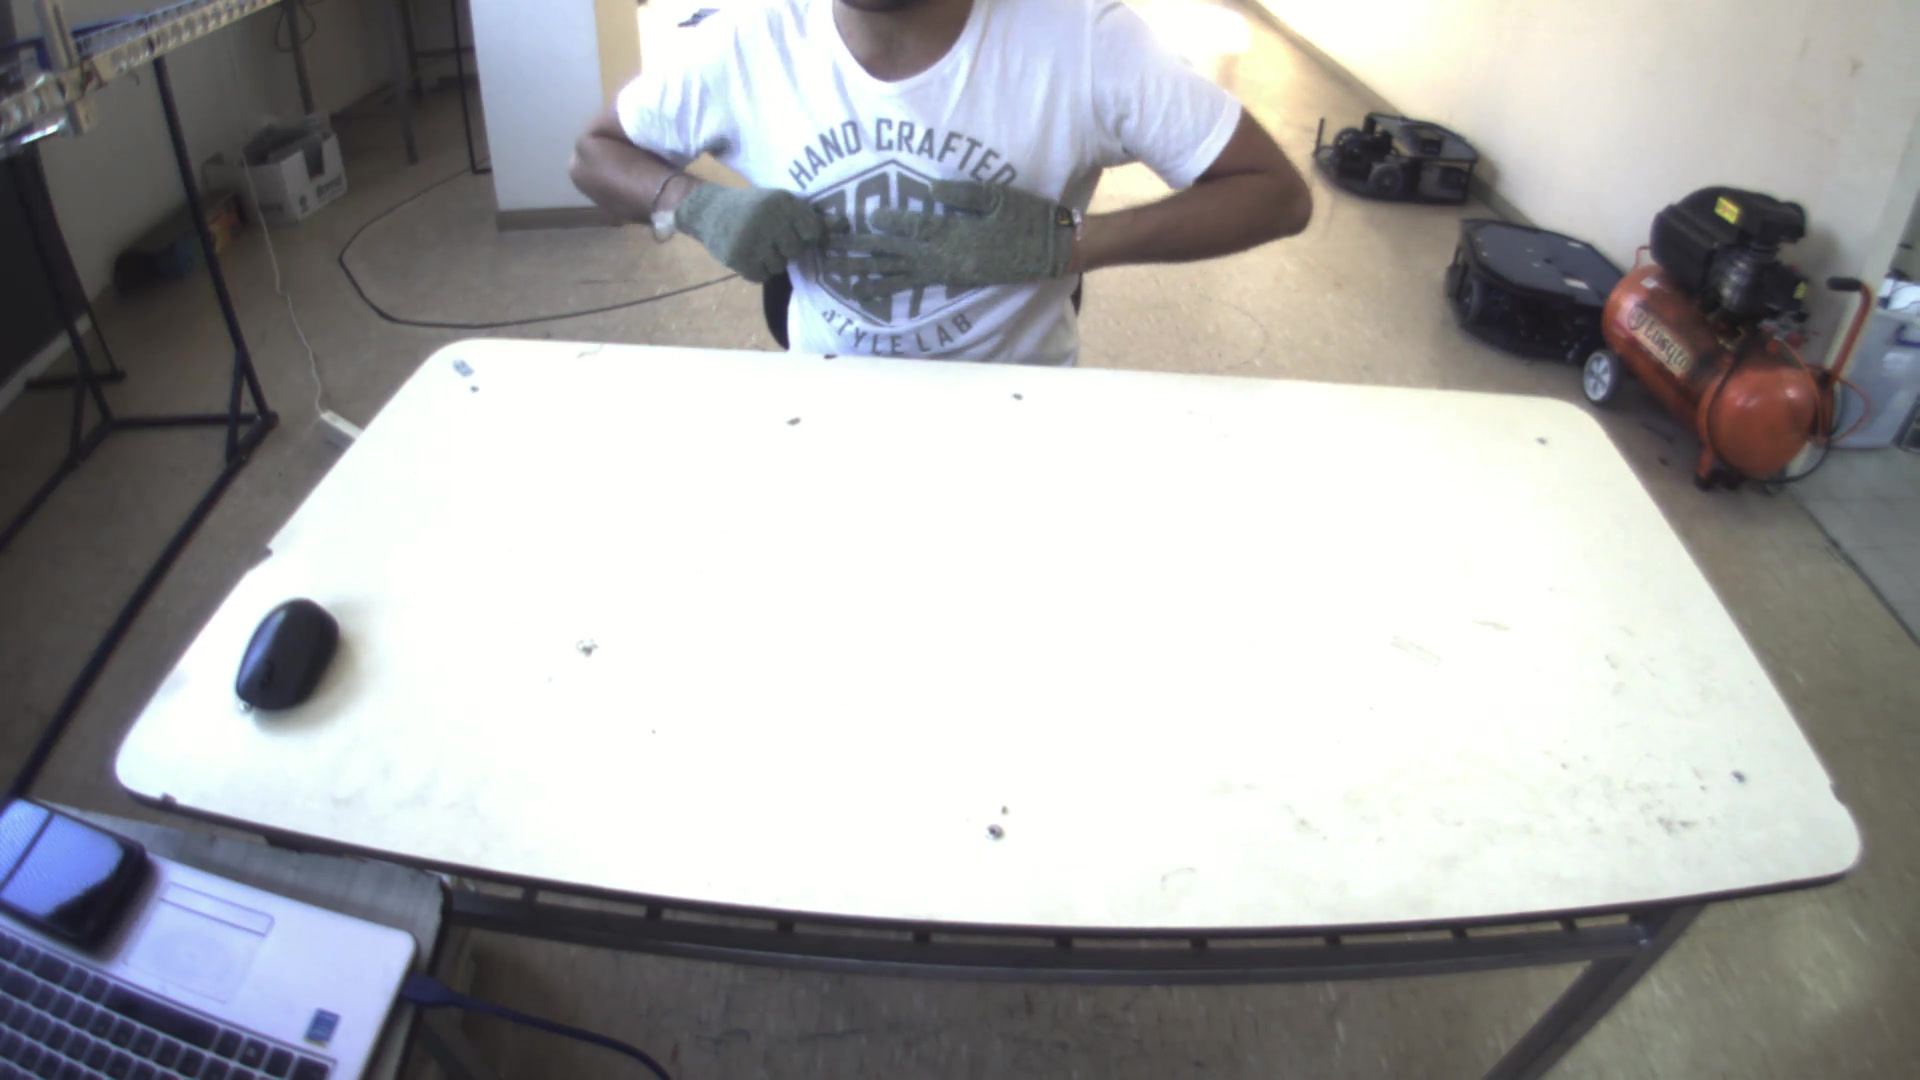hand: (822, 162, 1091, 303), (665, 164, 836, 280)
